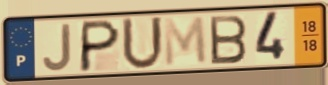4: (253, 9, 291, 66)
B: (207, 13, 249, 66)
J: (41, 22, 74, 73)
M: (162, 14, 210, 69)
P: (77, 17, 123, 74)
U: (120, 15, 166, 73)
